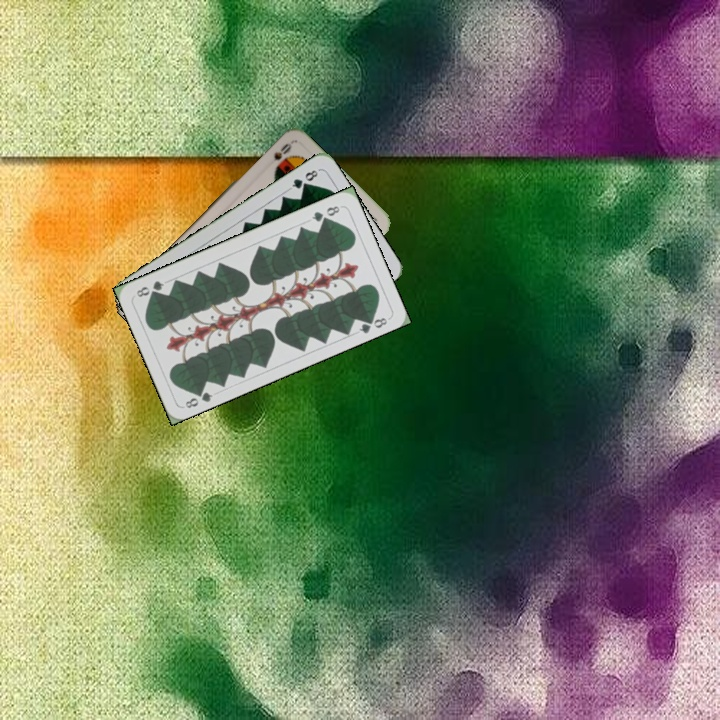G8: (285, 166, 322, 192), (181, 385, 215, 411), (308, 202, 344, 224)
SO: (270, 139, 294, 163)
